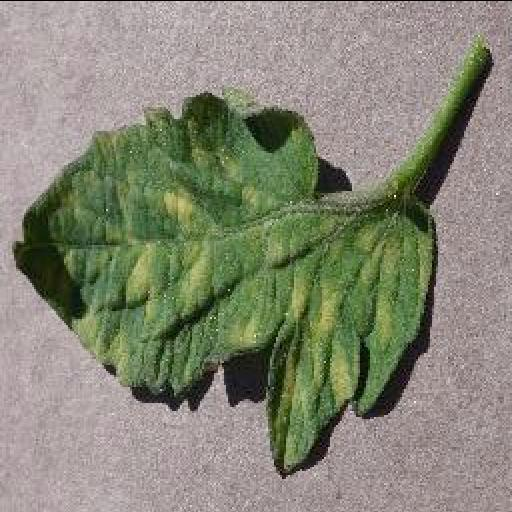disease_tomato: (10, 88, 438, 472)
